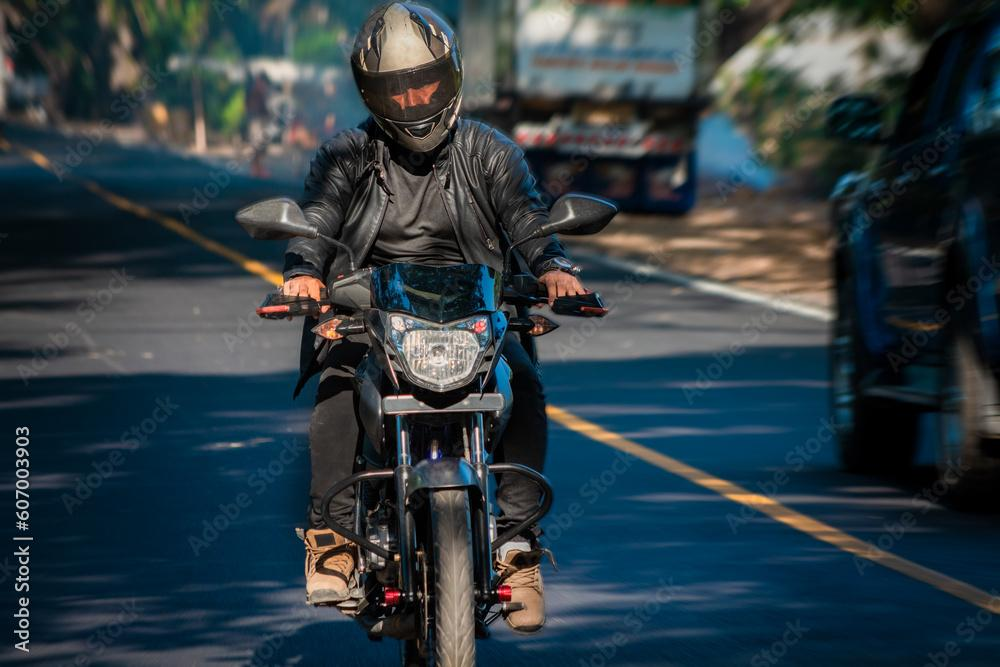helmet: (350, 0, 464, 153)
